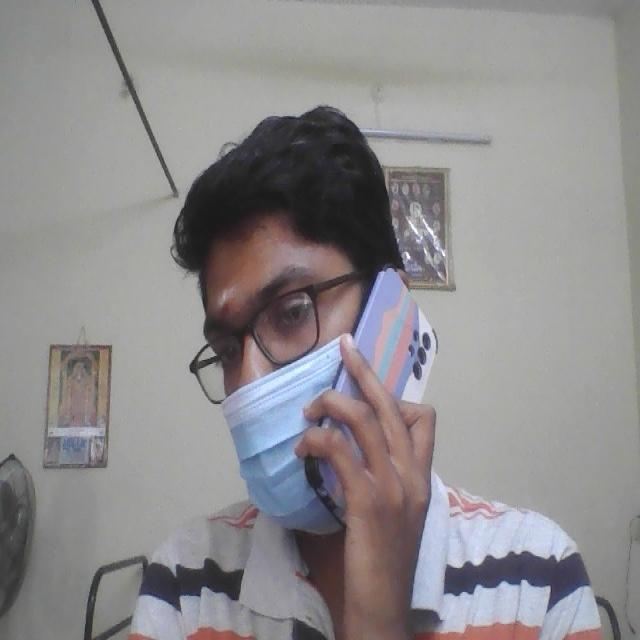Mobile: (336, 244, 455, 438)
